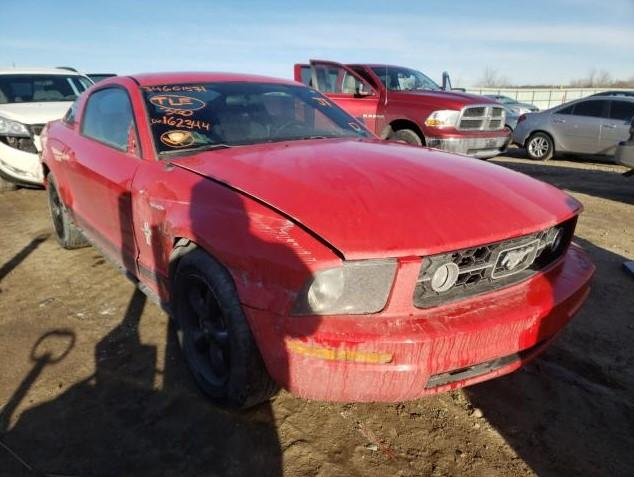Back-wheel: (47, 171, 91, 249)
Back-window: (62, 95, 83, 130)
Fender: (131, 159, 343, 316)
Front-bumper: (241, 241, 597, 402)
Front-door: (62, 79, 150, 279)
Front-wheel: (175, 248, 280, 410)
Front-window: (79, 85, 141, 159)
Grille: (412, 214, 579, 308)
Headlight: (289, 258, 399, 316)
Hood: (162, 137, 583, 259)
Quarter-panel: (41, 122, 77, 226)
Rocker-panel: (71, 220, 171, 313)
Roof: (123, 71, 310, 86)
Windshield: (139, 82, 377, 159)
